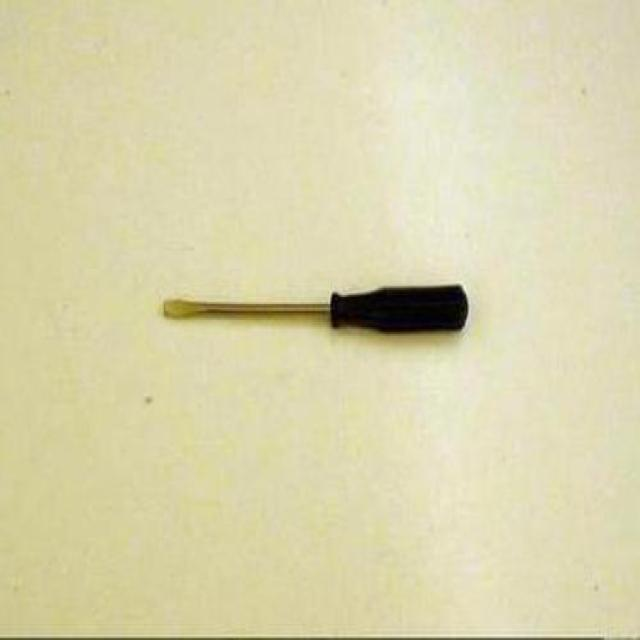screw driver: (141, 235, 499, 387)
